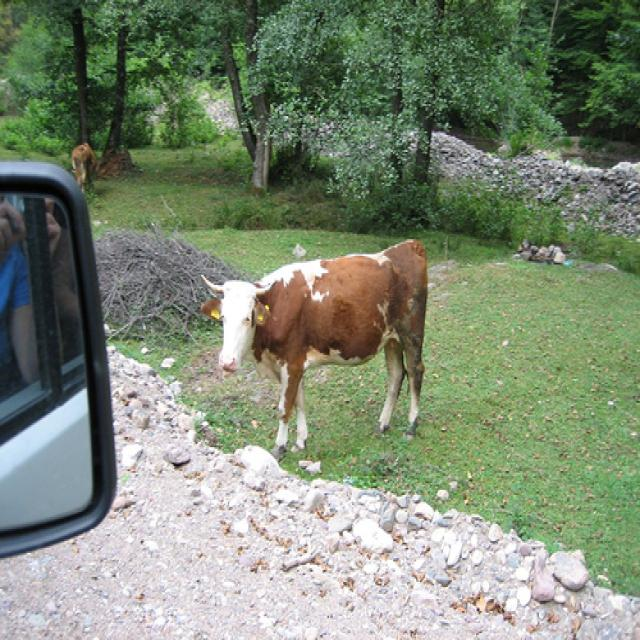cow: (202, 238, 427, 467), (68, 143, 96, 191)
